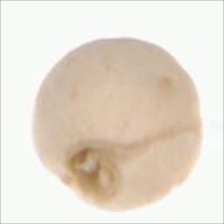L3: (67, 139, 124, 205)
L4: (32, 37, 201, 211)
